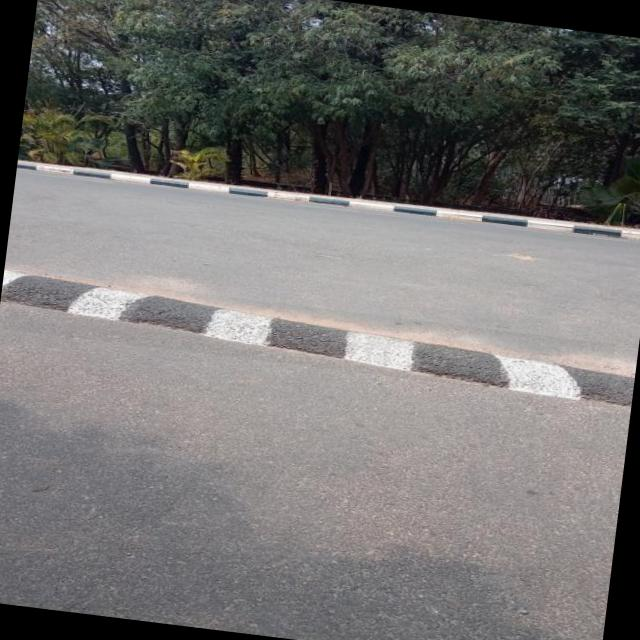bump: (3, 270, 615, 403)
